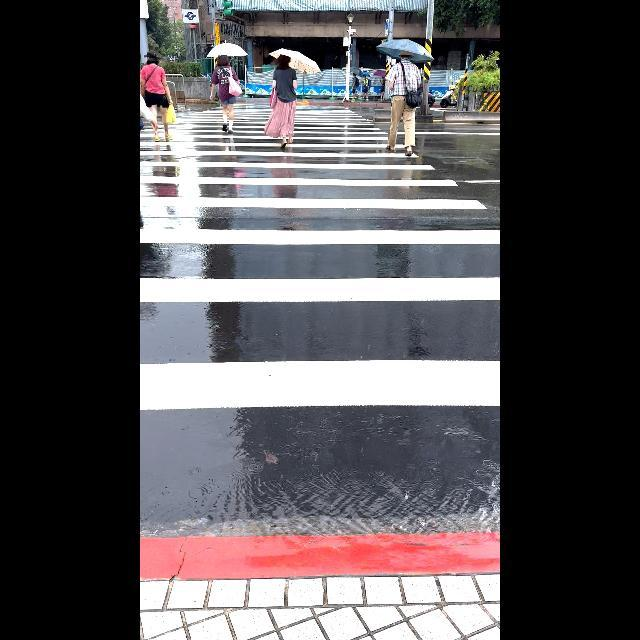sidewalk: (140, 96, 500, 422)
